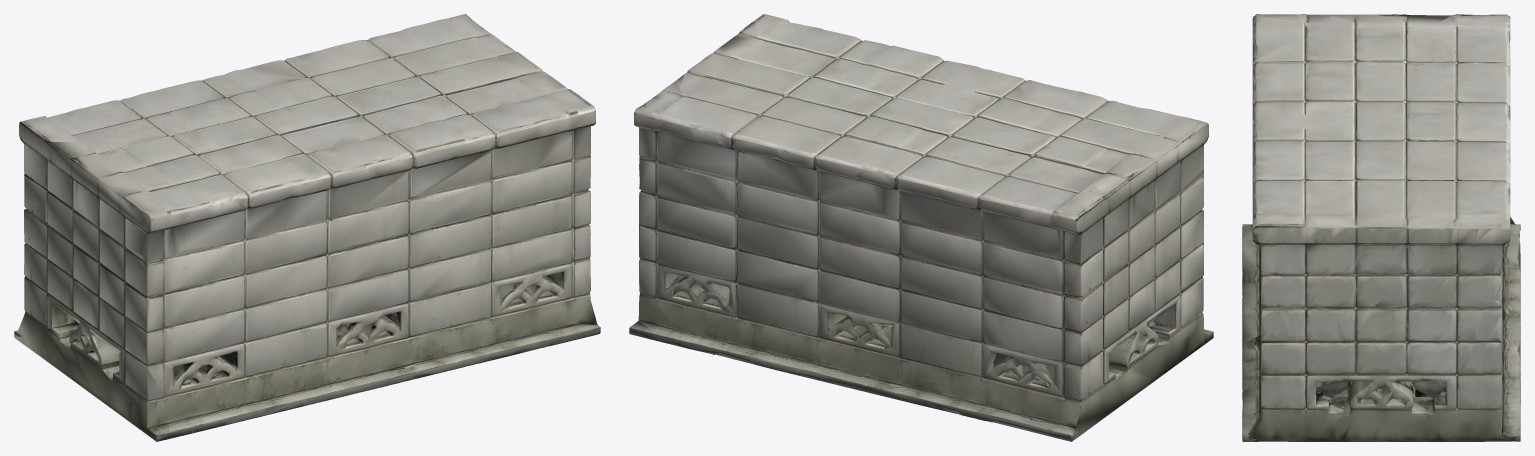
File: hei.glb
3 views of the same model, side by side, from view 1: azimuth 30°, elevation 25°; view 2: azimuth 150°, elevation 25°; view 3: azimuth 270°, elevation 25° (orthographic). The views are drawn at different scales.
Visible parts, largest first — view 1: Mesh_0; view 2: Mesh_0; view 3: Mesh_0.
Boxes of the visible parts, x1=… form: Mesh_0: x1=14, y1=14, x2=600, y2=441; Mesh_0: x1=629, y1=14, x2=1213, y2=441; Mesh_0: x1=1242, y1=14, x2=1520, y2=441.
Bounding box in the file's own units: 1.91 × 0.9131 × 1.06.
1 material, 1 textured.
